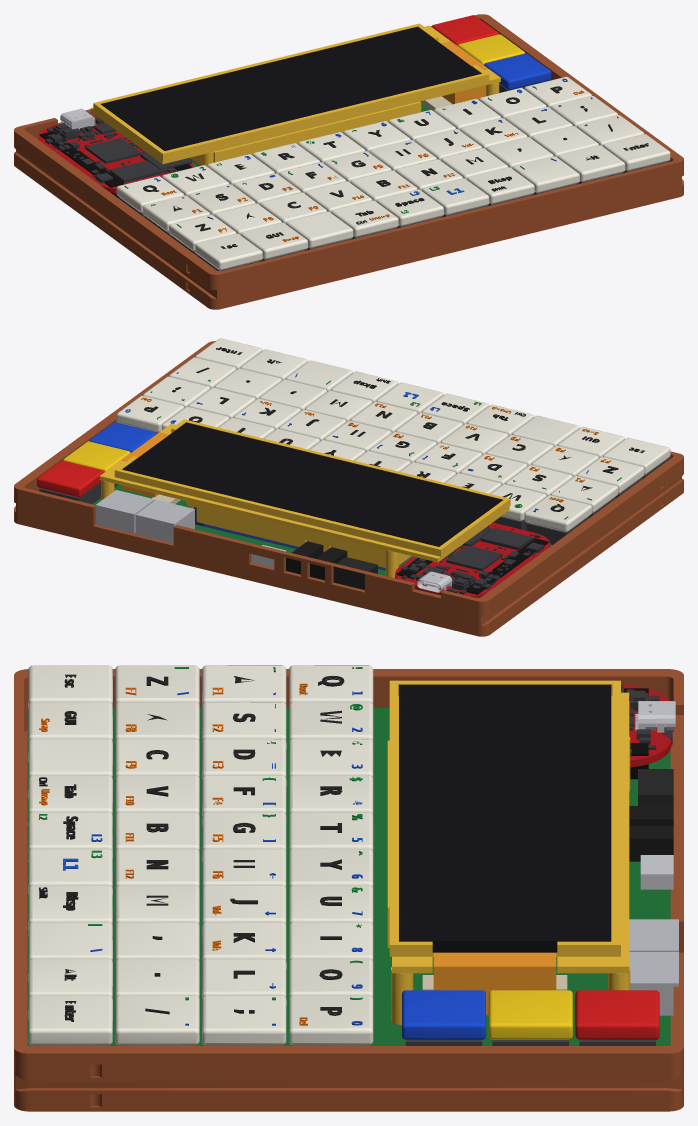
The model's file is open_sienna.glb.
3 renders of one model, top to bottom at view 1: azimuth 30°, elevation 25°; view 2: azimuth 150°, elevation 25°; view 3: azimuth 270°, elevation 25°, orthographic. The views are drawn at different scales.
Parts seen in each view (by area): view 1: Internals, Tray; view 2: Internals, Tray; view 3: Internals, Tray.
Part boxes in pixels (x1=…): Internals: x1=38, y1=15, x2=670, y2=270; Tray: x1=14, y1=14, x2=683, y2=309; Internals: x1=37, y1=338, x2=670, y2=597; Tray: x1=14, y1=341, x2=683, y2=636; Internals: x1=27, y1=665, x2=678, y2=1045; Tray: x1=14, y1=669, x2=683, y2=1111.
Bounding box in the file's own units: 0.1782 × 0.0211 × 0.1312.
